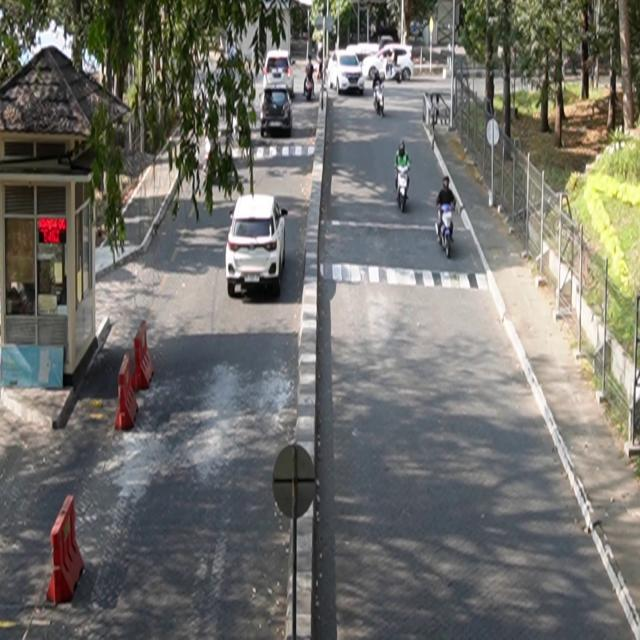car: (226, 194, 289, 299), (328, 50, 366, 96), (261, 86, 293, 138), (264, 50, 296, 99)
